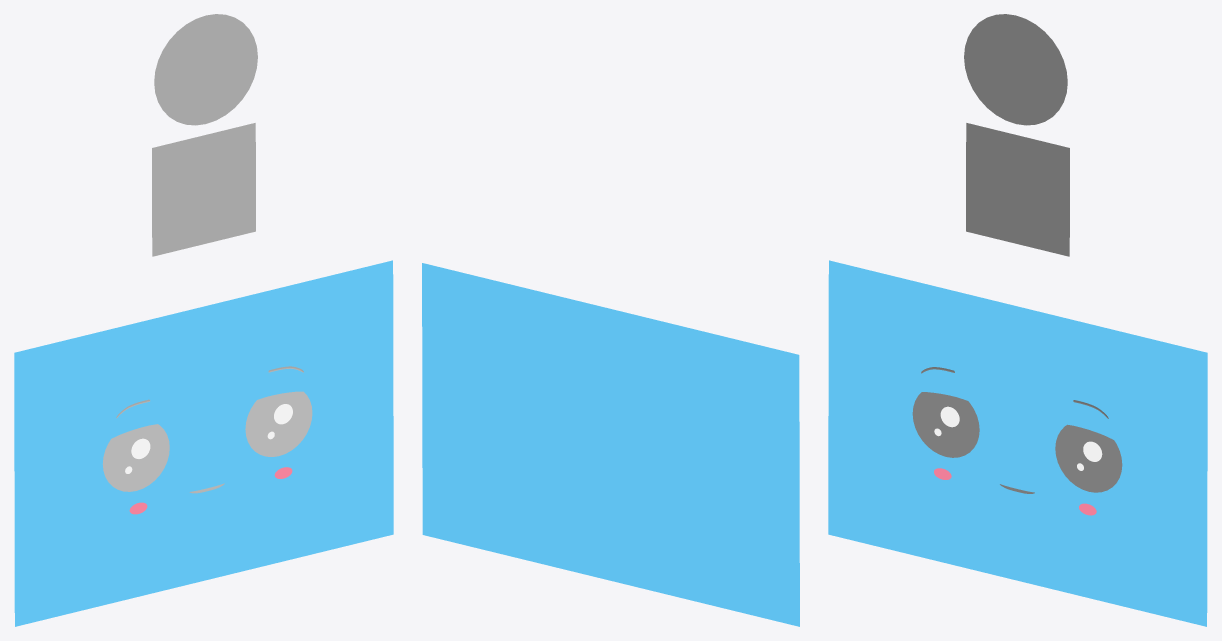
Rendered from Hugo.glb.
The picture shows the model from 3 angles, left to right: view 1: azimuth 30°, elevation 25°; view 2: azimuth 150°, elevation 25°; view 3: azimuth 330°, elevation 25°; orthographic projection.
Visible parts, largest first — view 1: BG, Plane.001, Cylinder, Plane.006, Plane.005, L_Eye, R_Eye, R_Eye.008, R_Eye.009; view 2: BG; view 3: BG, Plane.001, Cylinder, Plane.005, Plane.006, R_Eye, L_Eye, R_Eye.008, R_Eye.009.
Part boxes in pixels (x1,y1,x2,y2): BG: [14, 260, 393, 626]; Plane.001: [152, 123, 255, 256]; Cylinder: [154, 14, 257, 125]; Plane.006: [78, 337, 181, 450]; Plane.005: [234, 306, 338, 408]; L_Eye: [245, 391, 312, 456]; R_Eye: [102, 424, 169, 491]; R_Eye.008: [243, 454, 320, 492]; R_Eye.009: [97, 490, 175, 528]; BG: [422, 263, 799, 626]; BG: [828, 260, 1207, 626]; Plane.001: [966, 123, 1069, 256]; Cylinder: [964, 14, 1067, 125]; Plane.005: [1042, 337, 1145, 450]; Plane.006: [885, 306, 988, 408]; R_Eye: [912, 392, 979, 457]; L_Eye: [1055, 424, 1122, 492]; R_Eye.008: [1050, 491, 1128, 529]; R_Eye.009: [905, 455, 983, 493].
Size of the model in its own units: 7.3 by 10.43 by 0.1745.
